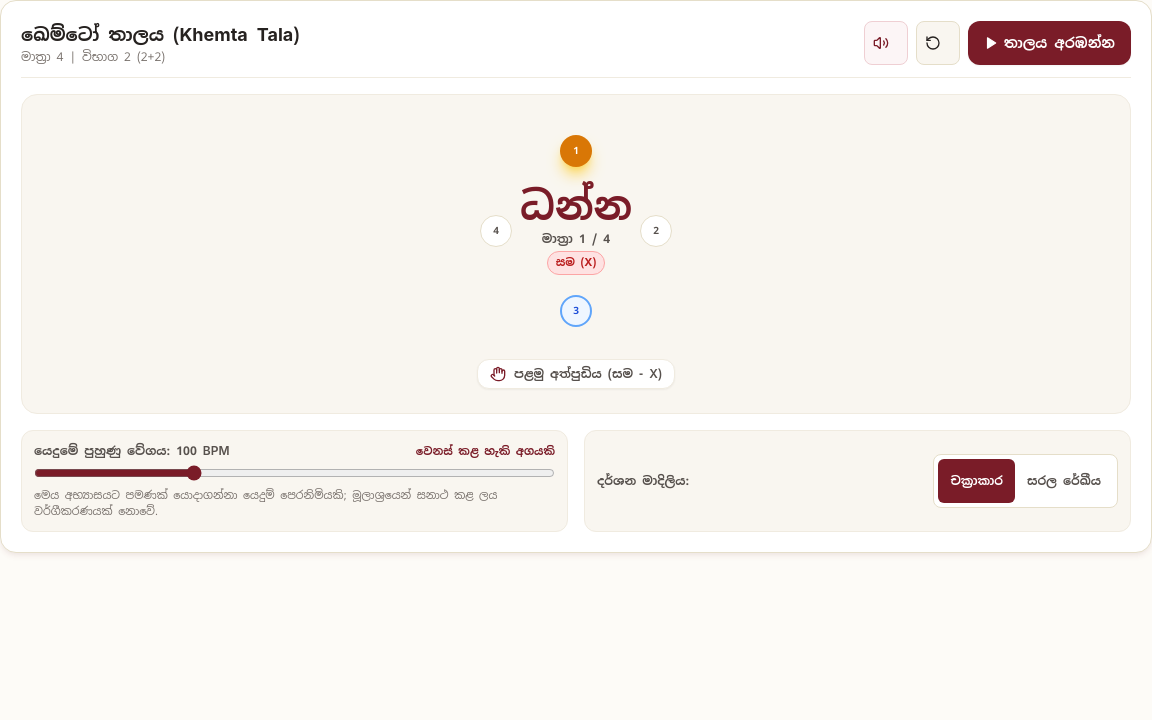
Test case: TalaVisualizer playback and hydration ownership › cancels the caller-owned stroke when BPM changes while playing
The width and height of the screenshot is (1152, 720).
Click the button "තාලය අරඹන්න" at [1050, 43], box [968, 21, 1131, 65]
Wait 400 ms
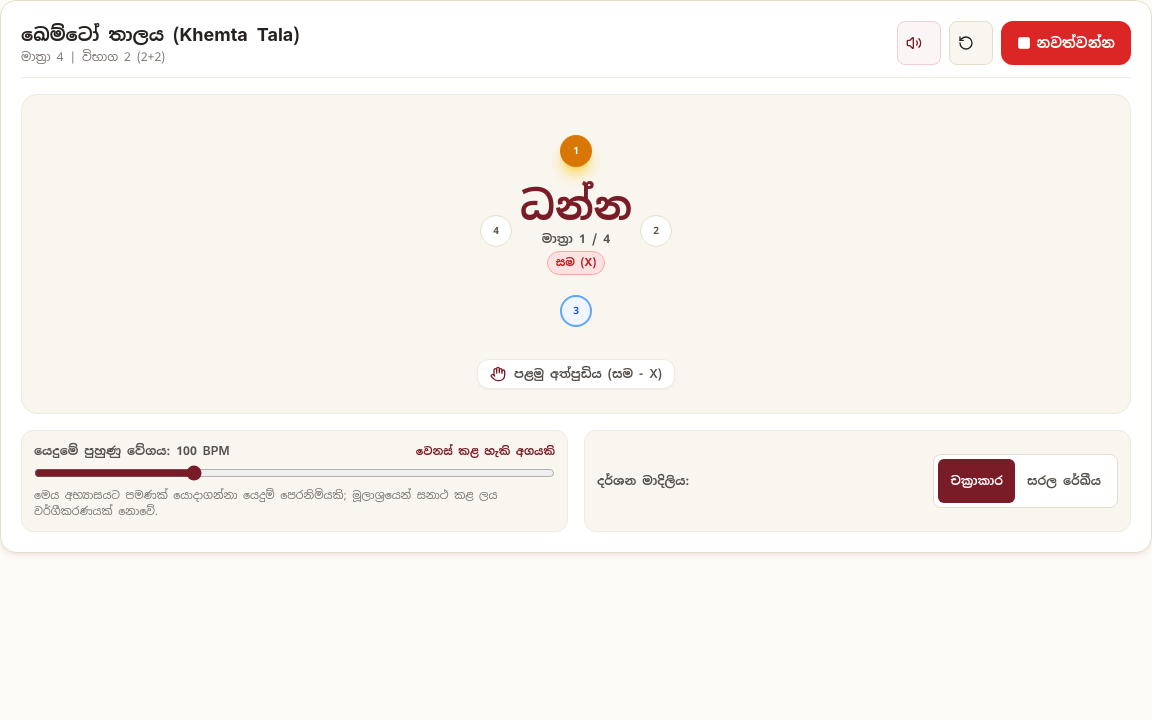
Set the slider named "තාලයේ වේගය (BPM)" to "120" at [244, 473], box [34, 469, 555, 477]
Wait 500 ms
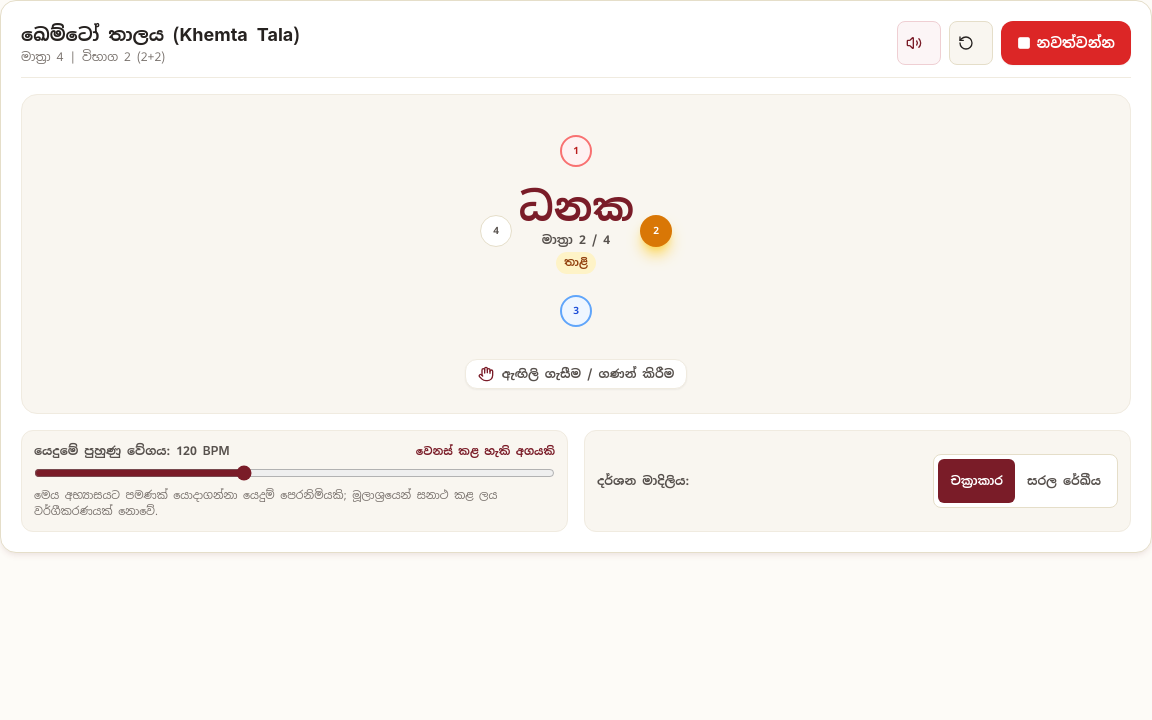
Expected: the text "මාත්‍රා 2 / 4" is shown, [542, 232, 610, 248]
